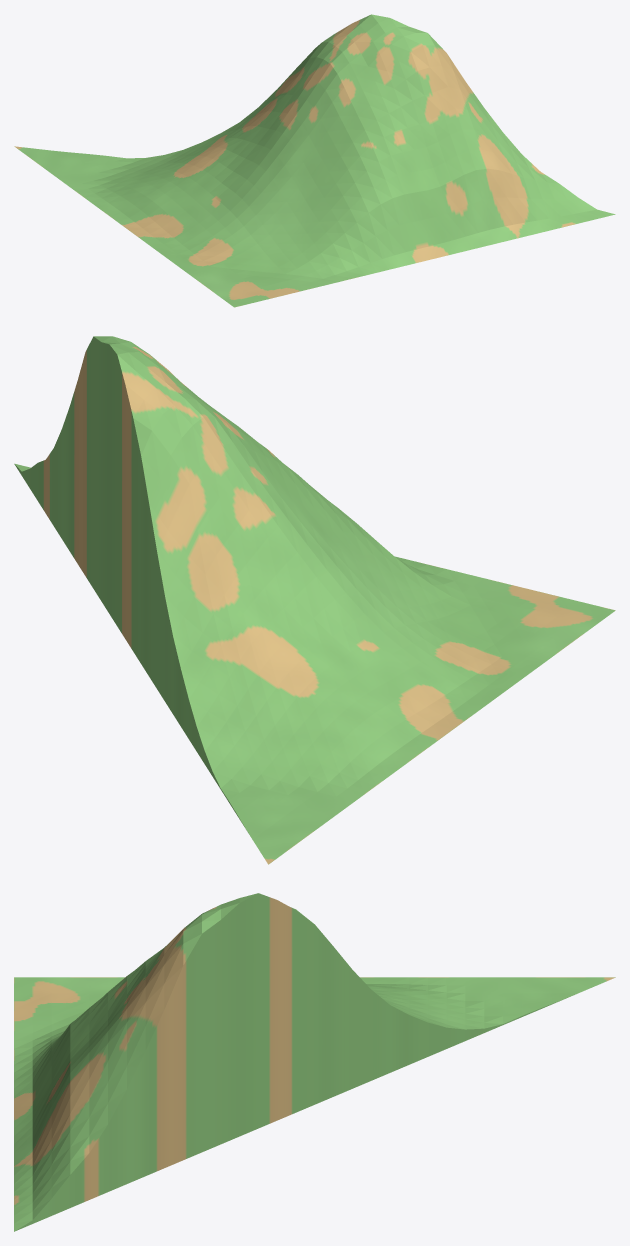
File: Grass_Hills_06_NW.obj
3 views of the same model, one above another, from view 1: azimuth 30°, elevation 25°; view 2: azimuth 150°, elevation 25°; view 3: azimuth 270°, elevation 25° (orthographic). The views are drawn at different scales.
Size of the model in its own units: 10 by 4.32 by 10.
Materials: 1 (1 with a texture image).
